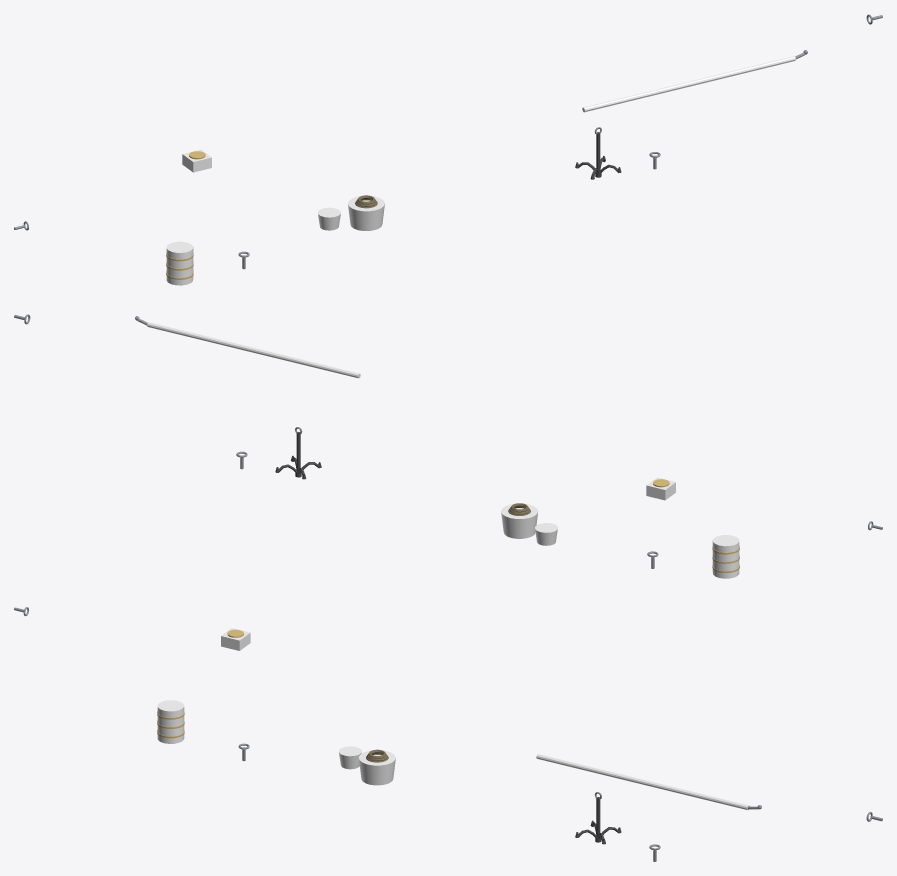
File: Fittings.glb
The picture shows the model from 3 angles, top to bottom: view 1: azimuth 30°, elevation 25°; view 2: azimuth 150°, elevation 25°; view 3: azimuth 330°, elevation 25°; orthographic projection.
Parts seen in each view (by area): view 1: Fittings; view 2: Fittings; view 3: Fittings.
Part boxes in pixels (x1,y1,x2,y2): Fittings: (14, 14, 882, 285); Fittings: (14, 314, 882, 578); Fittings: (14, 607, 882, 861).
Bounding box in the file's own units: 7.81 × 0.9206 × 0.7639.
